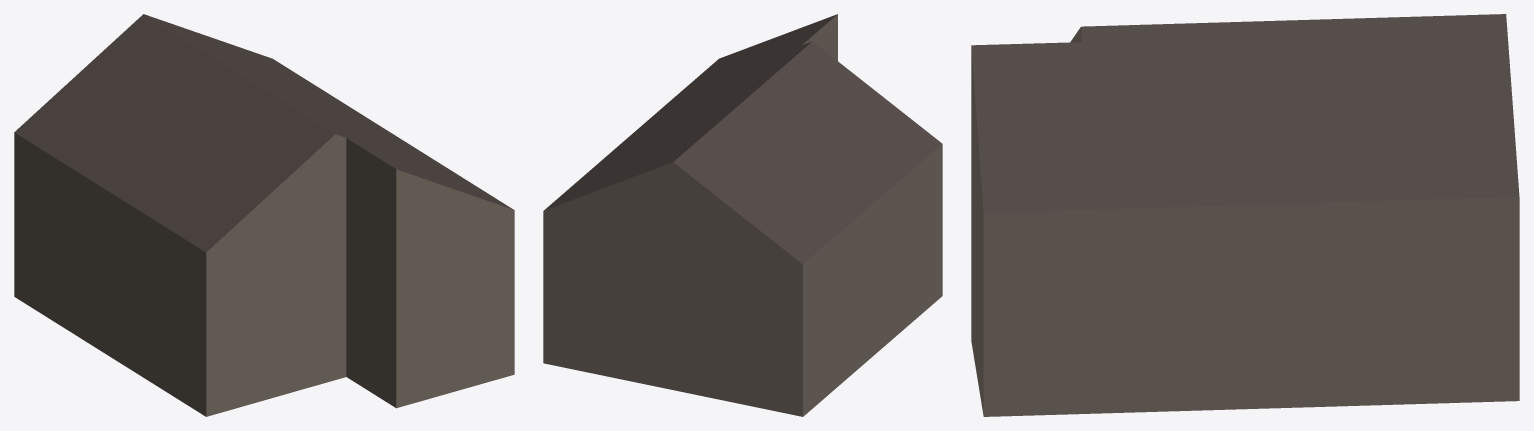
3 views of the same model, side by side, from view 1: azimuth 30°, elevation 25°; view 2: azimuth 150°, elevation 25°; view 3: azimuth 270°, elevation 25° (orthographic). The views are drawn at different scales.
Parts seen in each view (by area): view 1: HP-w1200766554; view 2: HP-w1200766554; view 3: HP-w1200766554.
Boxes of the visible parts, x1=… form: HP-w1200766554: x1=14, y1=14, x2=514, y2=416; HP-w1200766554: x1=543, y1=14, x2=942, y2=416; HP-w1200766554: x1=971, y1=14, x2=1519, y2=416.
Size of the model in its own units: 16.94 by 13.47 by 21.9.
